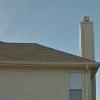Chimney: (69, 7, 96, 60)
